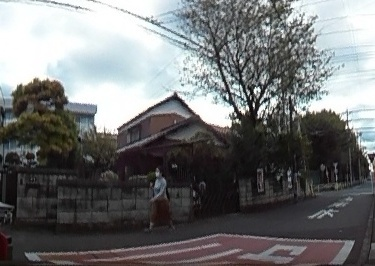person: (149, 164, 174, 229)
